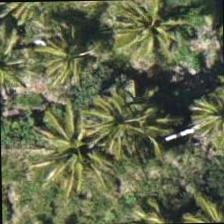Kelapa_Sawit: (6, 112, 98, 204), (88, 70, 180, 162), (14, 13, 106, 105), (111, 0, 203, 81), (170, 67, 223, 160), (0, 1, 73, 49)
